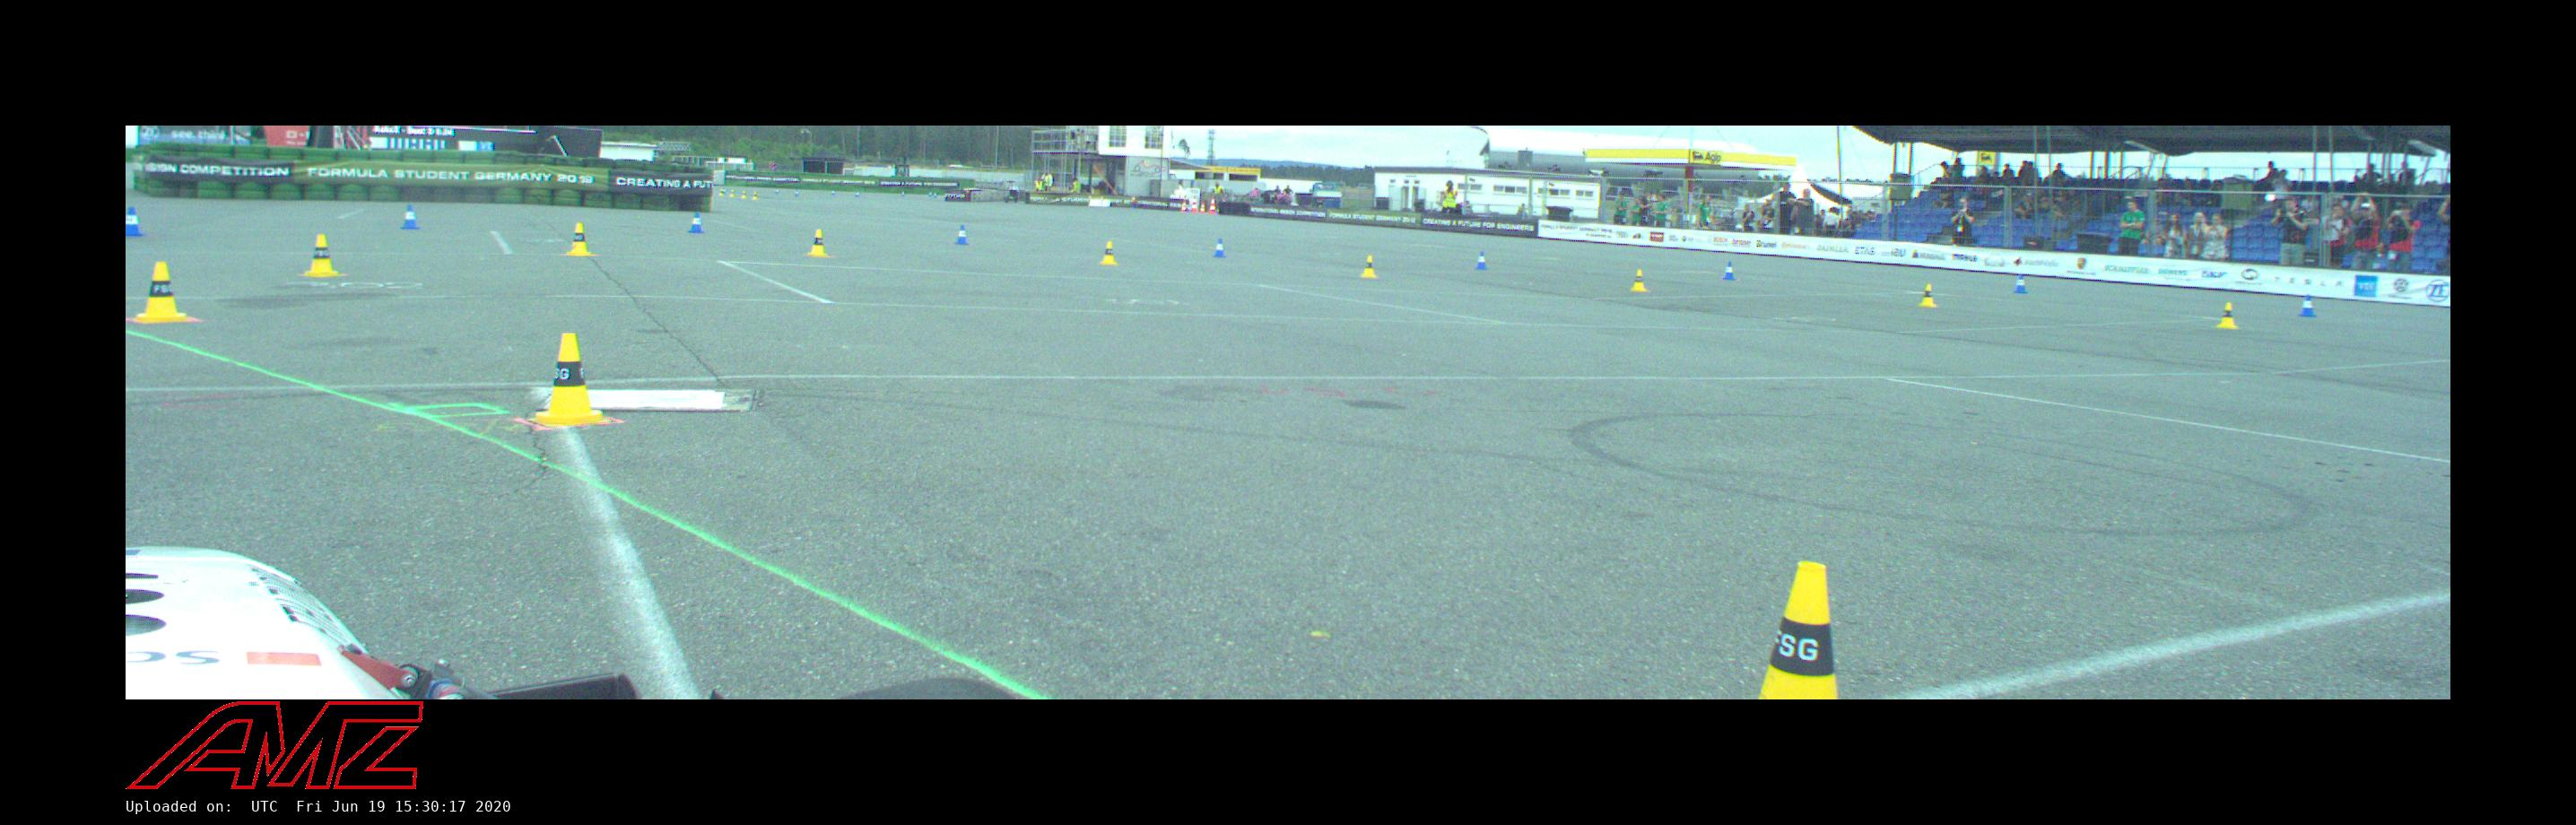blue_cone: (126, 206, 147, 236), (399, 204, 422, 230), (2297, 294, 2319, 317), (688, 212, 705, 233), (2013, 274, 2029, 293), (954, 225, 970, 245), (1722, 261, 1736, 280), (1474, 251, 1488, 269), (1213, 239, 1226, 257), (794, 189, 799, 196), (854, 190, 859, 197), (774, 187, 779, 194), (830, 189, 834, 195), (933, 191, 937, 197), (928, 191, 933, 196), (901, 190, 905, 196)
large_orange_cone: (1190, 198, 1197, 213), (1209, 198, 1215, 213), (1179, 199, 1187, 212), (1198, 201, 1205, 213)
yellow_cone: (1758, 561, 1838, 699), (528, 334, 613, 427), (134, 262, 192, 322), (301, 235, 341, 276), (566, 223, 593, 256), (807, 230, 830, 257), (2217, 303, 2240, 328), (1917, 283, 1938, 308), (1101, 241, 1117, 264), (1631, 269, 1647, 291), (1361, 256, 1377, 277), (741, 190, 748, 198), (752, 192, 758, 201), (730, 189, 735, 197), (719, 188, 725, 195)
